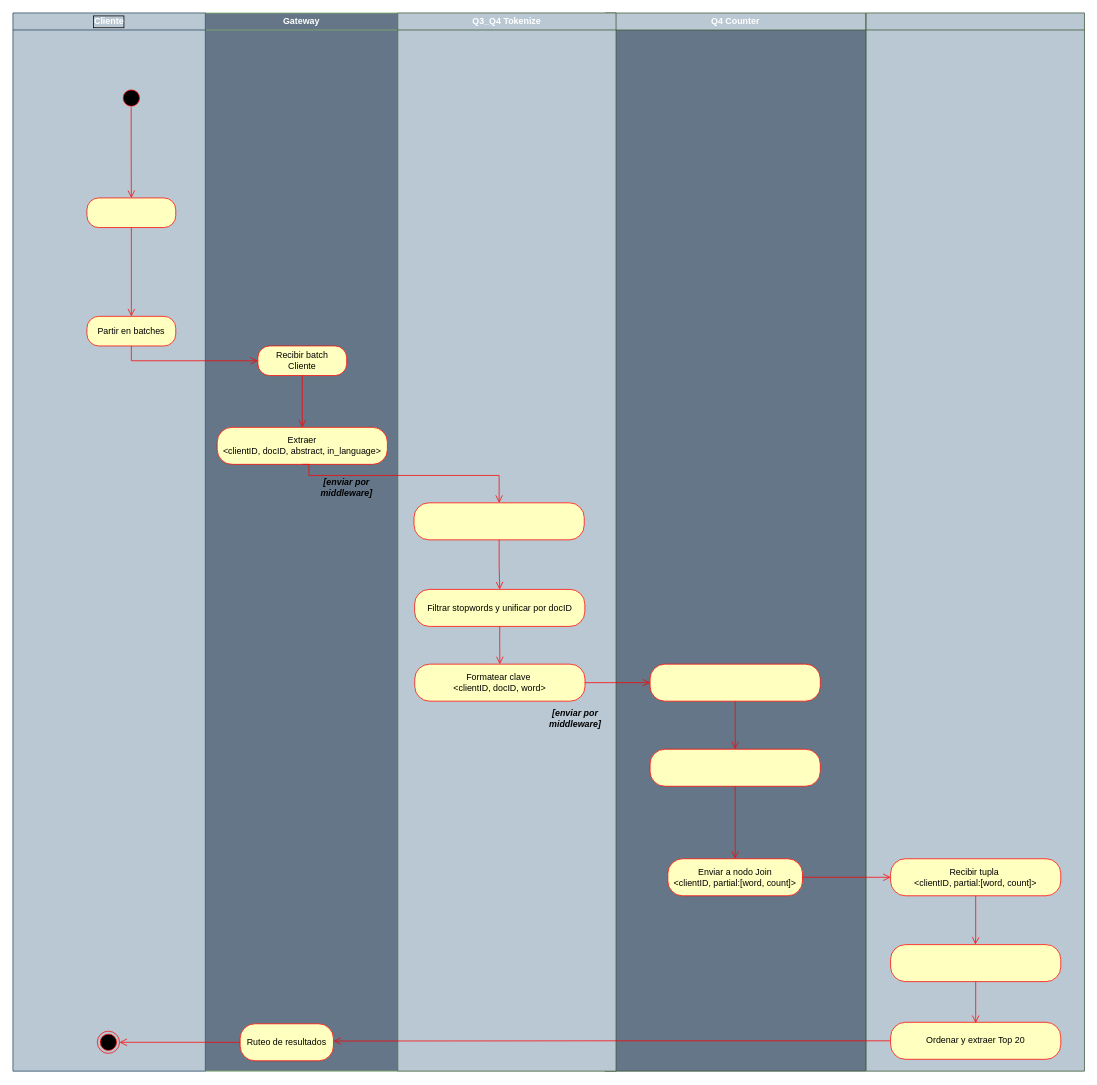
The diagram is 1097 pixels wide and 1085 high, and some of its shapes have lost their labels. Here are the shapes that lost their labels. From the top down, the centre of each, then its label:
the point at 131,212: Leer archivo .parquet
the point at 498,521: Tokenizar el Abstract
the point at 974,541: Q4 Join
the point at 734,682: Recibir tuplas
the point at 734,767: Incrementar conteo local (por ej: en un dict)
the point at 975,963: Merge de los contadores
